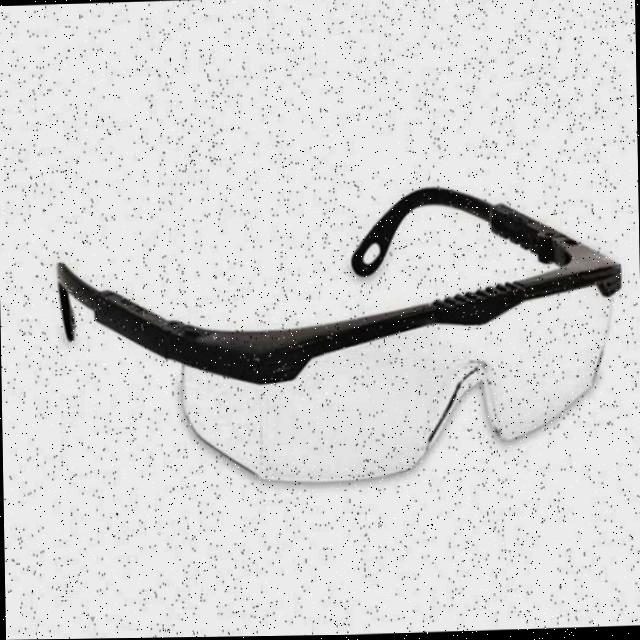goggles_on: (0, 178, 640, 502)
